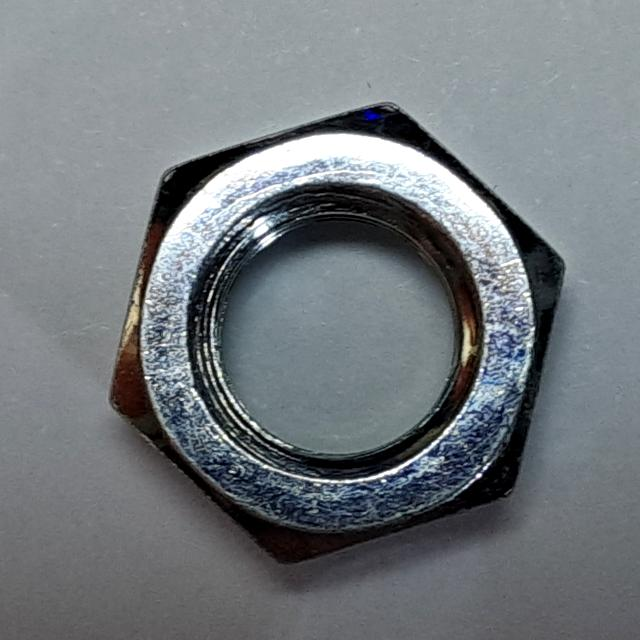Excellent: (94, 85, 589, 576)
